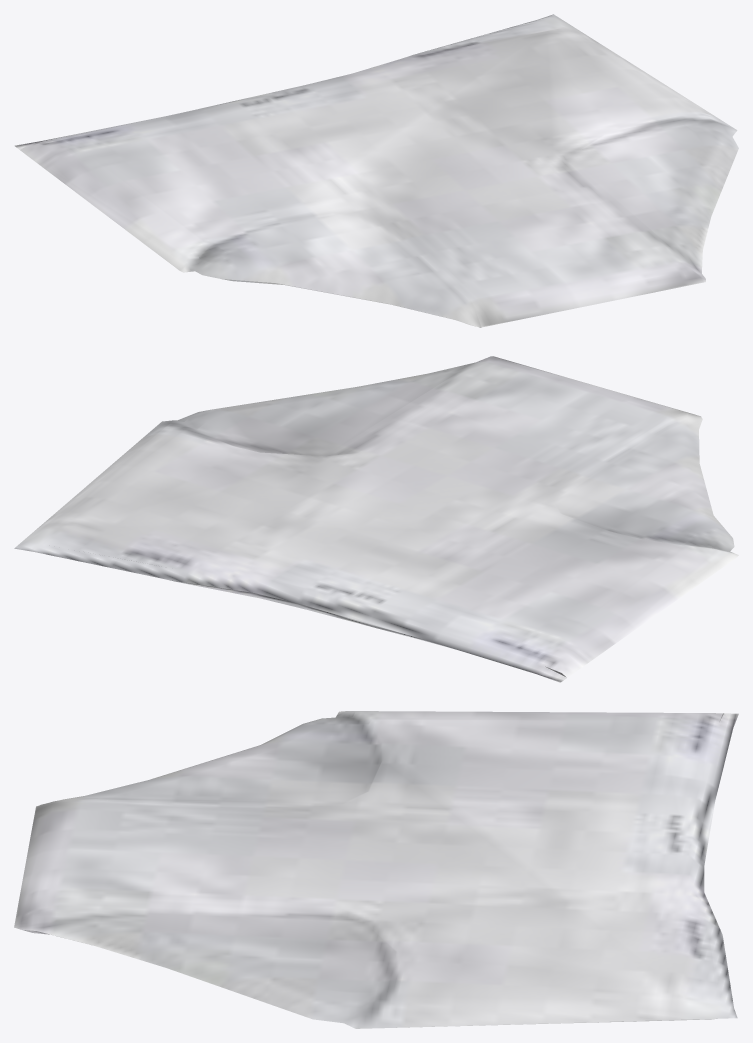
Rendered from white_underpants.dae.
3 renders of one model, top to bottom at view 1: azimuth 30°, elevation 25°; view 2: azimuth 150°, elevation 25°; view 3: azimuth 270°, elevation 25°, orthographic. The views are drawn at different scales.
Visible parts, largest first — view 1: skp9F34; view 2: skp9F34; view 3: skp9F34.
Part boxes in pixels (<box>): skp9F34: <box>14,14,738,327</box>; skp9F34: <box>14,356,738,682</box>; skp9F34: <box>14,711,738,1028</box>.
Size of the model in its own units: 16.03 by 15.45 by 0.6463.
Materials: 1 (1 with a texture image).
